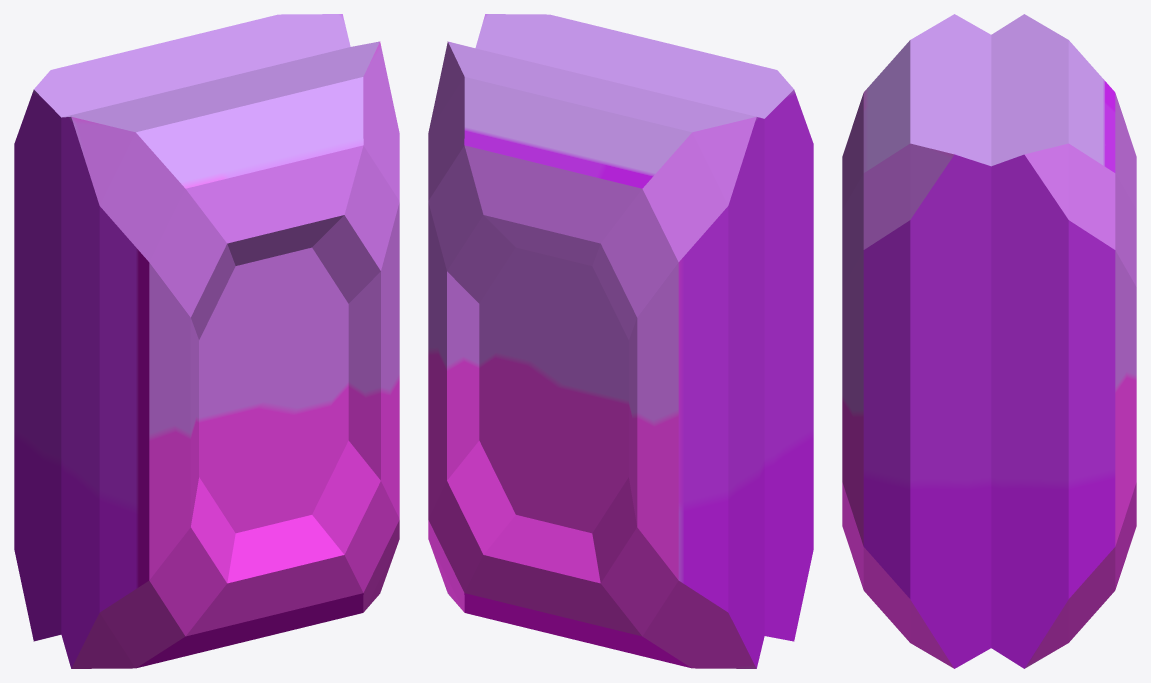
File: crystal50.obj
3 renders of one model, left to right at view 1: azimuth 30°, elevation 25°; view 2: azimuth 150°, elevation 25°; view 3: azimuth 270°, elevation 25°, orthographic. The views are drawn at different scales.
Visible parts, largest first — view 1: Cube_Cube.001; view 2: Cube_Cube.001; view 3: Cube_Cube.001.
Part boxes in pixels (box(x1,y1,x2,y2)): Cube_Cube.001: box(14, 14, 399, 668); Cube_Cube.001: box(428, 14, 813, 668); Cube_Cube.001: box(842, 14, 1136, 668).
Size of the model in its own units: 8.69 by 14.84 by 7.68.
Materials: 1 (1 with a texture image).
